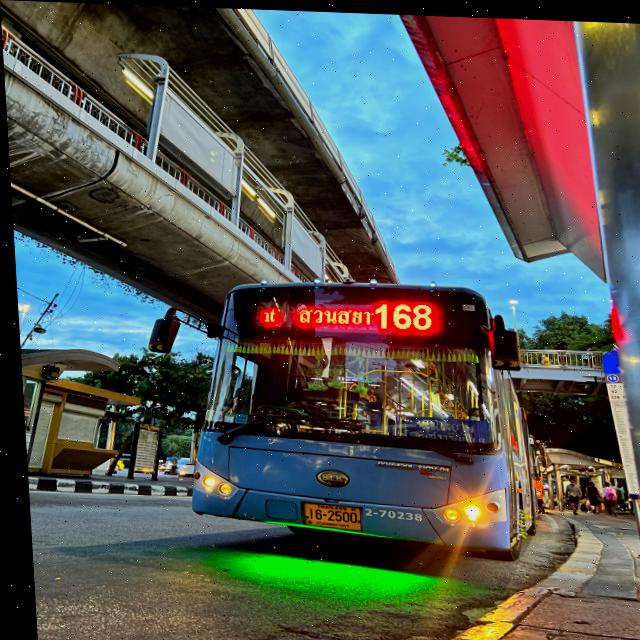BMTA-bus: (172, 274, 532, 577)
Bus-Line-Number: (365, 293, 432, 332)
Destination-Sign-Normal: (402, 412, 484, 441)
